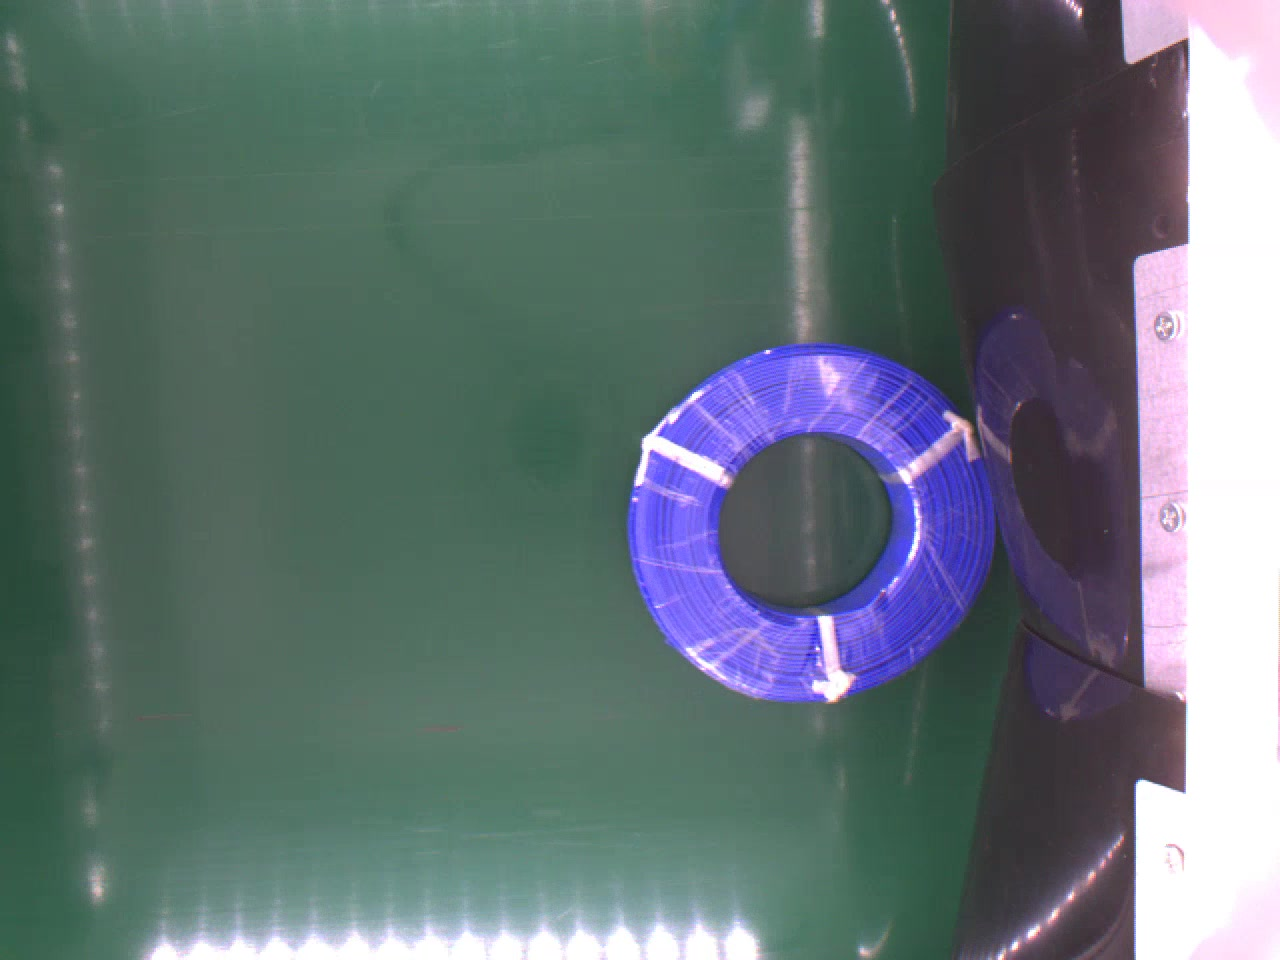blue: (625, 341, 994, 701)
